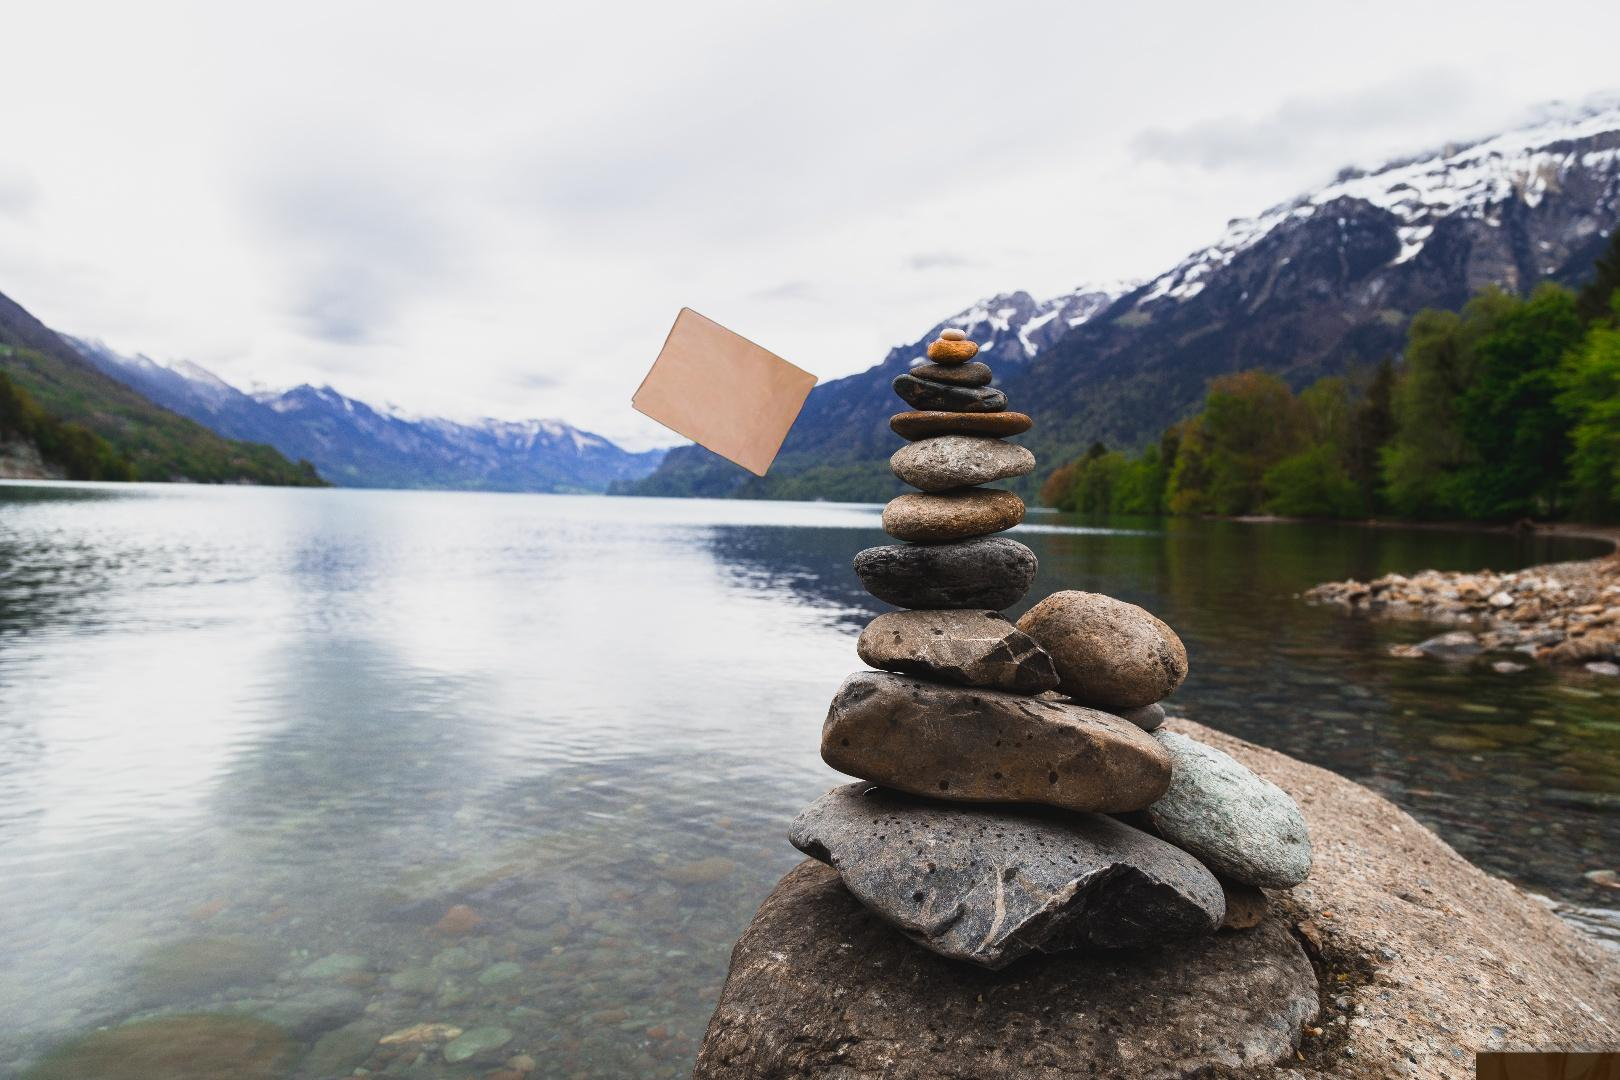paper-bag: (630, 305, 821, 483)
plastic-bottles: (1563, 933, 1620, 1080)
trashbox-cardboard: (1477, 1041, 1620, 1080)
